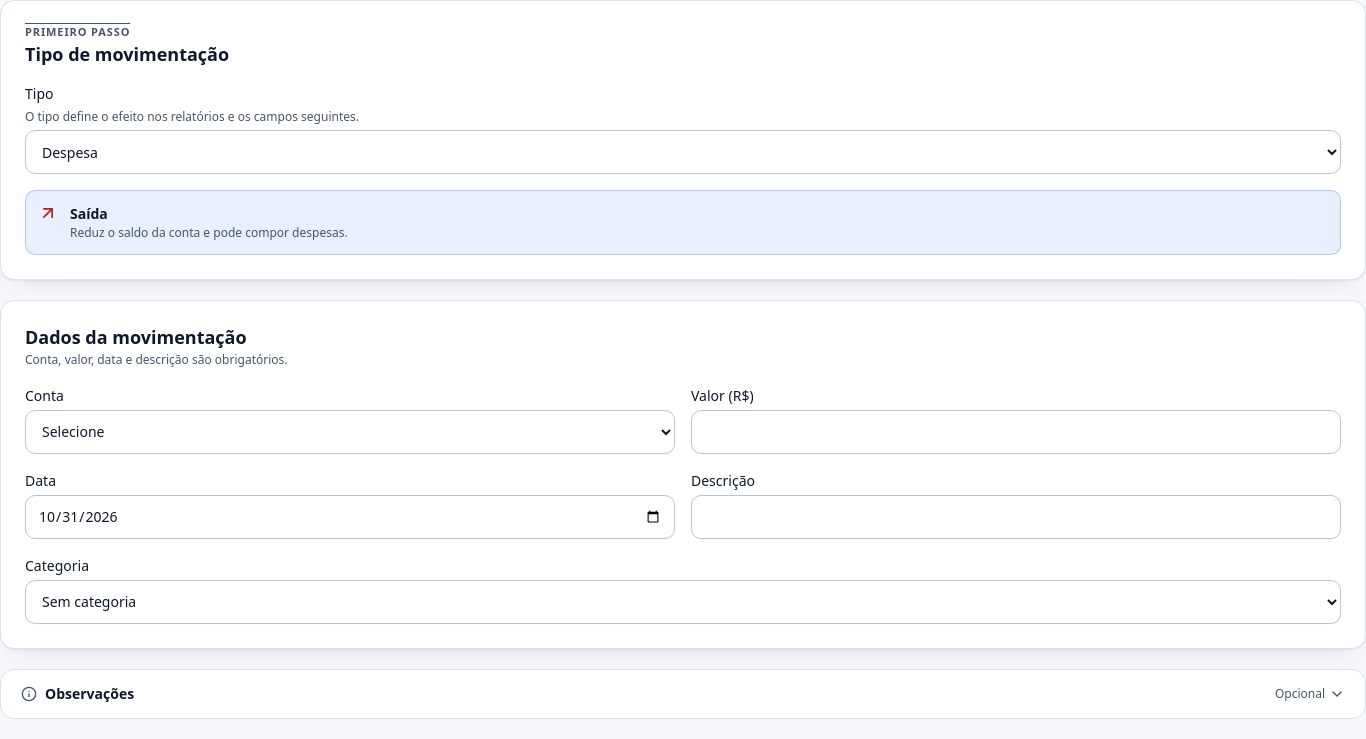
Test: formulário de lançamento manual › avisa que conta importada não ajusta o saldo do provedor
Select "Conta Banco" in the dropdown labelled "Conta". click: [350, 432]
box: [25,410,675,454]
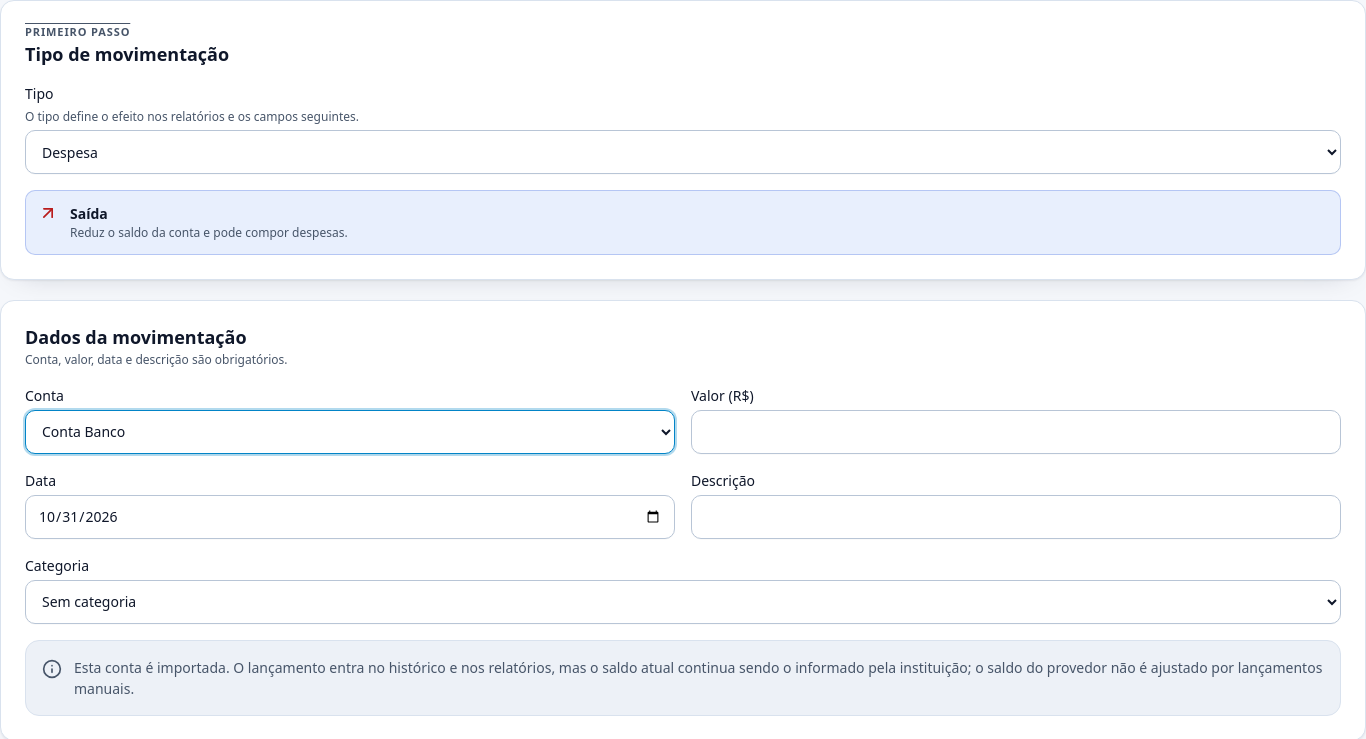
Expected: the text "o saldo do provedor não é ajustado por lançamentos manuais" is shown, [74,658,1322,698]
